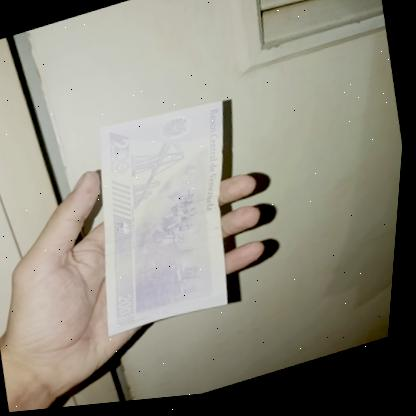vef_back: (68, 91, 267, 347)
